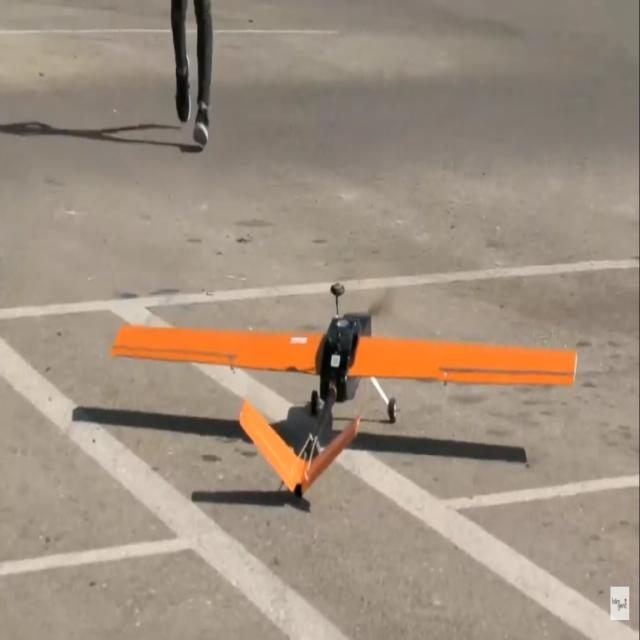iha: (108, 269, 578, 499)
